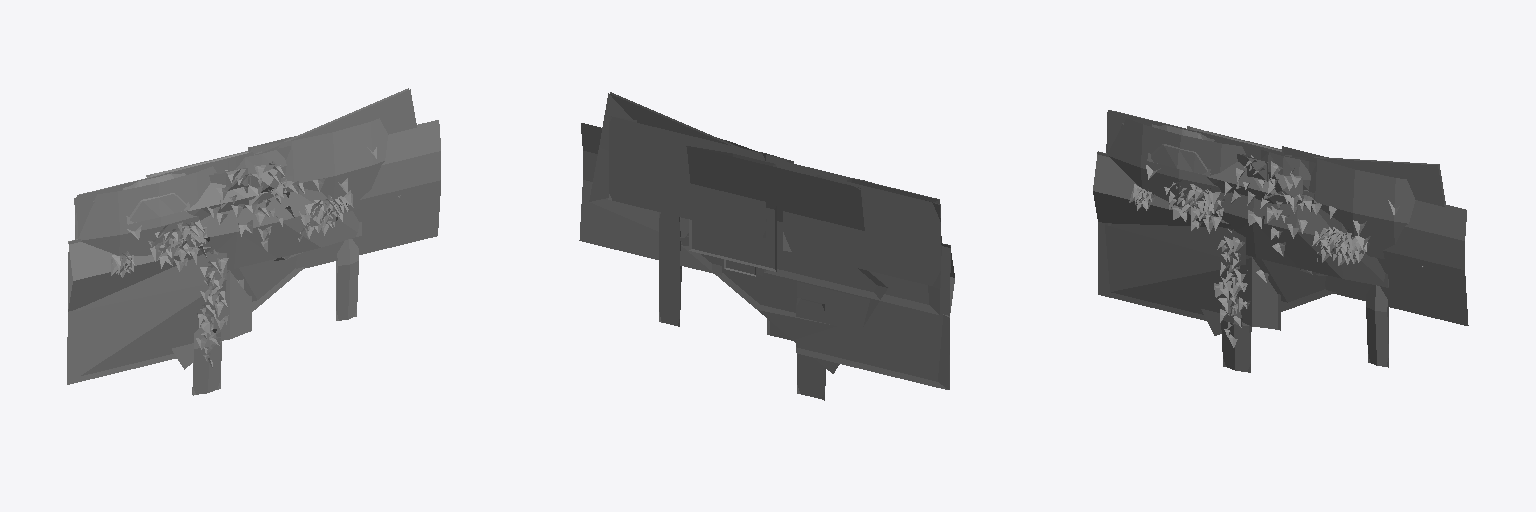
File: Top_Ivy_Dying.obj
3 renders of one model, left to right at view 1: azimuth 30°, elevation 25°; view 2: azimuth 150°, elevation 25°; view 3: azimuth 330°, elevation 25°, orthographic.
Parts seen in each view (by area): view 1: Top_Ivy_Dying_LOD0, Top_Ivy_Dying_LOD2; view 2: Top_Ivy_Dying_LOD2, Top_Ivy_Dying_LOD0; view 3: Top_Ivy_Dying_LOD0, Top_Ivy_Dying_LOD2.
Boxes of the visible parts, x1=… form: Top_Ivy_Dying_LOD0: x1=67, y1=88, x2=435, y2=394; Top_Ivy_Dying_LOD2: x1=67, y1=89, x2=440, y2=395; Top_Ivy_Dying_LOD2: x1=583, y1=92, x2=950, y2=398; Top_Ivy_Dying_LOD0: x1=579, y1=93, x2=954, y2=400; Top_Ivy_Dying_LOD0: x1=1093, y1=110, x2=1468, y2=371; Top_Ivy_Dying_LOD2: x1=1097, y1=110, x2=1467, y2=372.
Size of the model in its own units: 365 by 240 by 30.17.